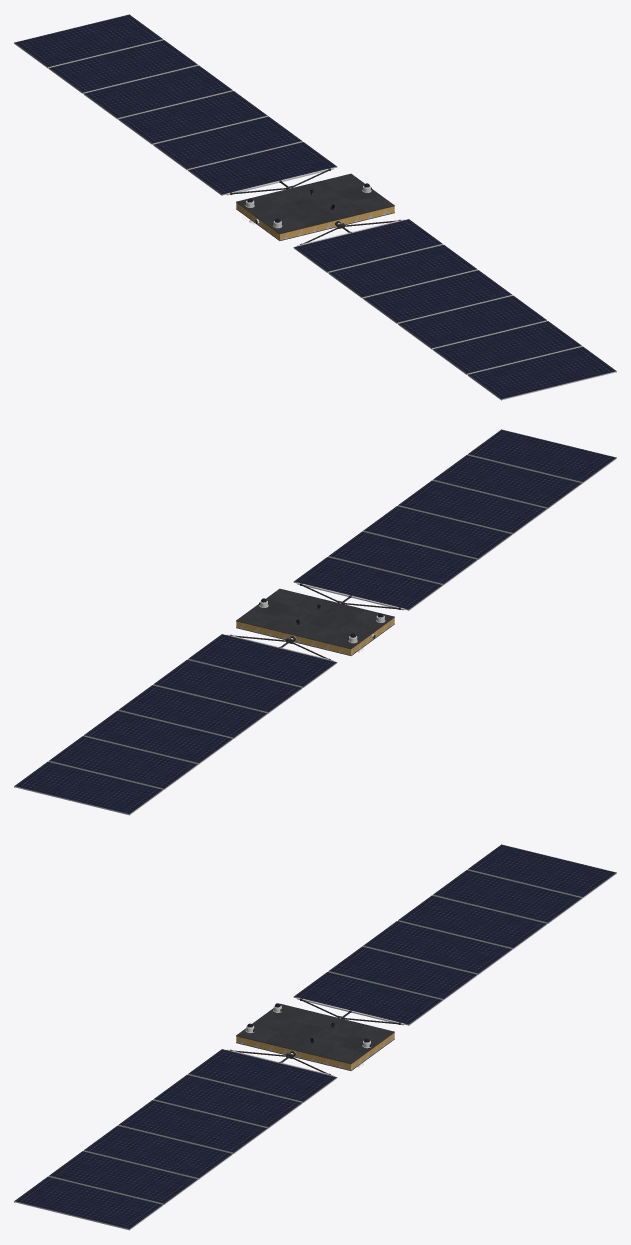
The model's file is starlink-v2mini.glb.
The picture shows the model from 3 angles, top to bottom: view 1: azimuth 30°, elevation 25°; view 2: azimuth 150°, elevation 25°; view 3: azimuth 330°, elevation 25°; orthographic projection.
Visible parts, largest first — view 1: Wing_R, Wing_L, Bus; view 2: Wing_L, Wing_R, Bus; view 3: Wing_R, Wing_L, Bus.
Boxes of the visible parts, bbox=[...] form: Wing_R: bbox=[293, 219, 616, 400]; Wing_L: bbox=[14, 14, 337, 195]; Bus: bbox=[236, 173, 394, 240]; Wing_L: bbox=[14, 634, 337, 815]; Wing_R: bbox=[293, 429, 616, 610]; Bus: bbox=[236, 588, 394, 655]; Wing_R: bbox=[14, 1049, 337, 1230]; Wing_L: bbox=[293, 844, 616, 1025]; Bus: bbox=[236, 1003, 394, 1070].
Size of the model in its own units: 4.15 by 0.731 by 30.
12 materials, 5 textured.
